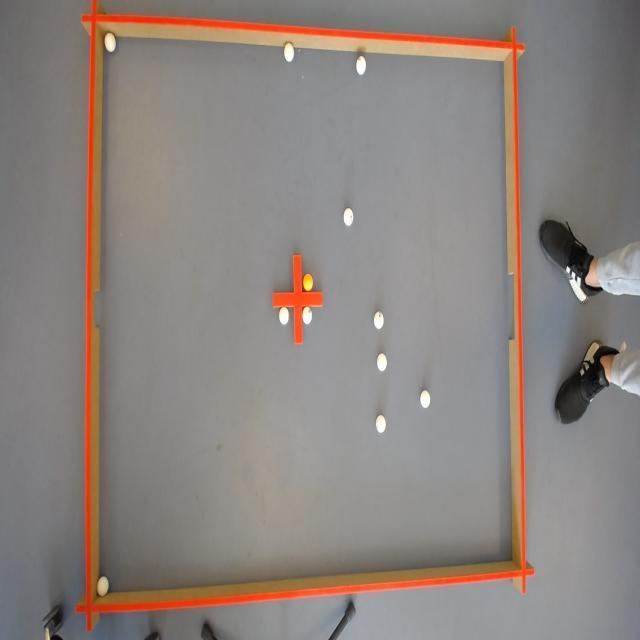orange: (302, 274, 313, 290)
white: (282, 42, 295, 63), (374, 412, 387, 433), (95, 576, 108, 596), (418, 390, 430, 410), (376, 352, 388, 372), (372, 309, 384, 329), (342, 207, 353, 228), (102, 34, 114, 52), (302, 305, 313, 324), (356, 55, 367, 74), (278, 306, 288, 326)
